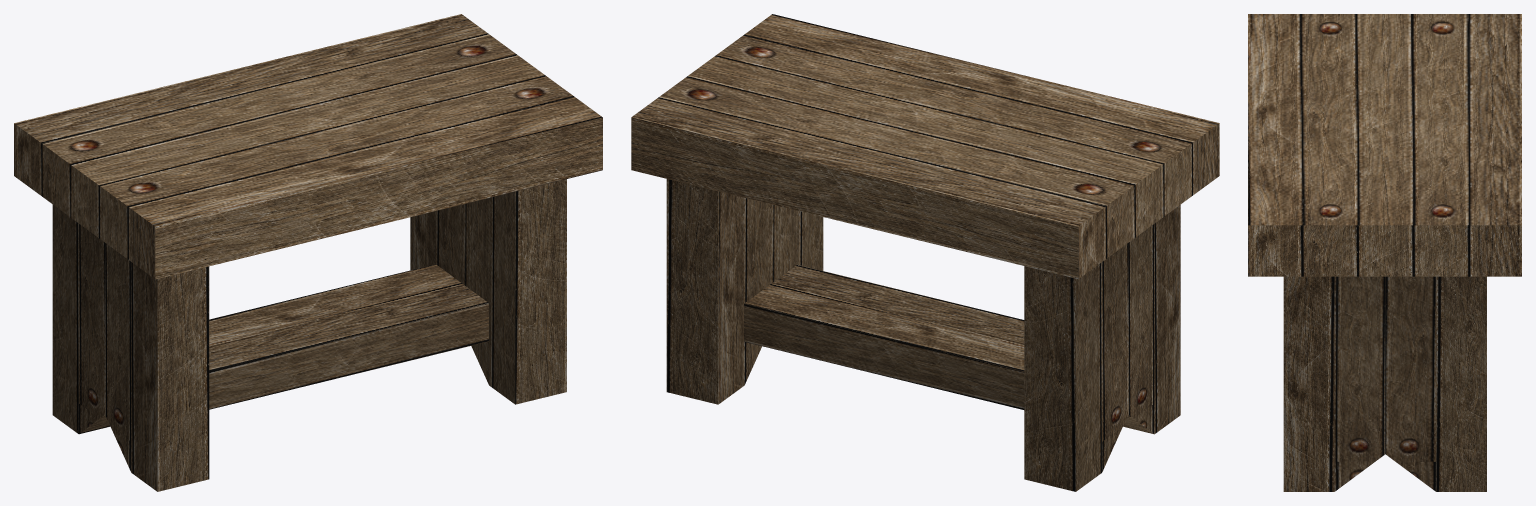
Rendered from mm9_deco_bench01.glb.
The picture shows the model from 3 angles, left to right: view 1: azimuth 30°, elevation 25°; view 2: azimuth 150°, elevation 25°; view 3: azimuth 270°, elevation 25°; orthographic projection. The views are drawn at different scales.
Parts seen in each view (by area): view 1: Bench01; view 2: Bench01; view 3: Bench01.
Boxes of the visible parts, box(x1,y1,x2,y2) form: Bench01: box(14, 14, 602, 491); Bench01: box(631, 14, 1219, 491); Bench01: box(1248, 14, 1521, 491).
Bounding box in the file's own units: 1.17 × 0.7075 × 0.6386.
Materials: 2 (2 with a texture image).
